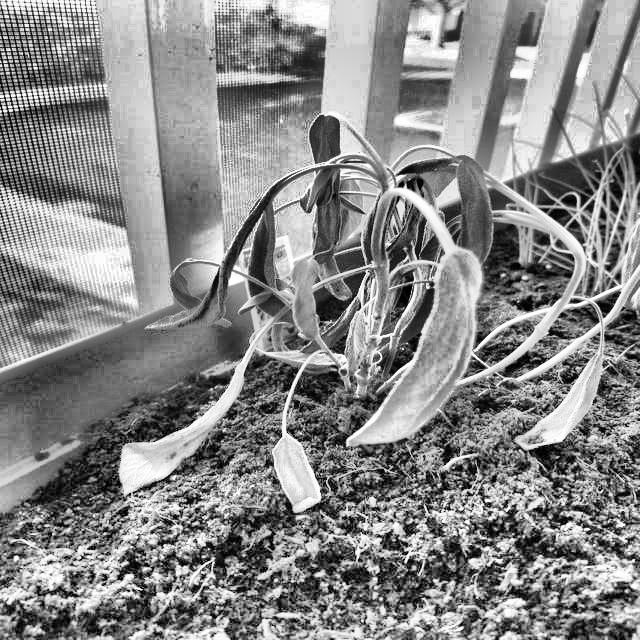plants: (142, 107, 606, 517)
